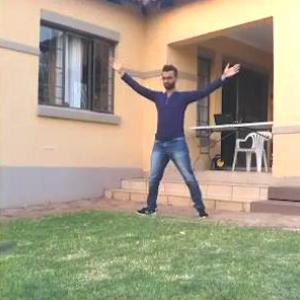takeoff: (113, 60, 241, 218)
